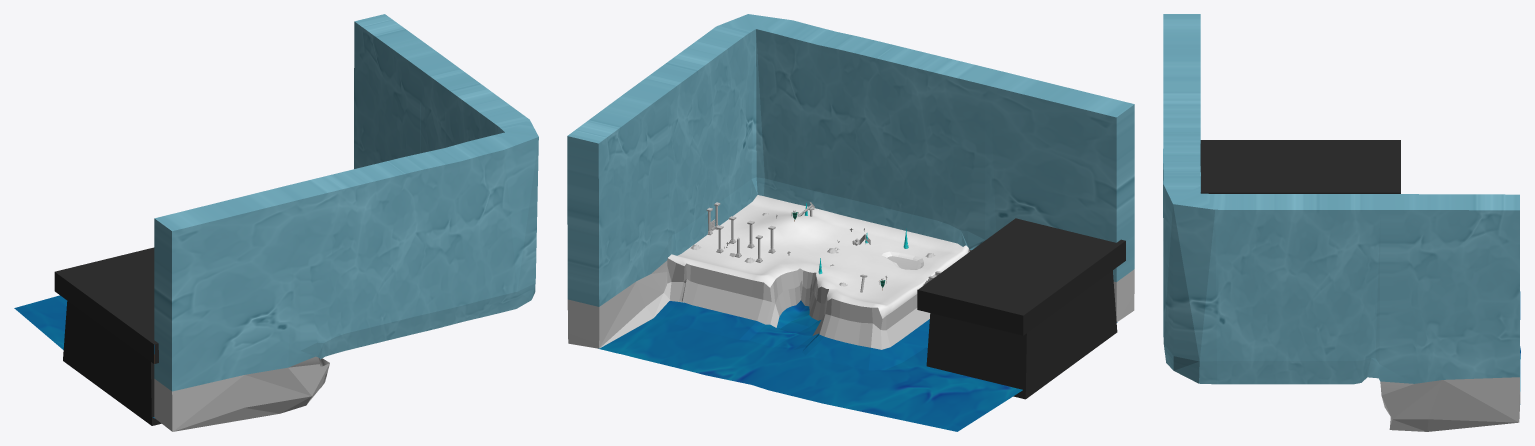
File: Extérieur plus salle.FBX
3 renders of one model, left to right at view 1: azimuth 30°, elevation 25°; view 2: azimuth 150°, elevation 25°; view 3: azimuth 270°, elevation 25°, orthographic. The views are drawn at different scales.
Parts seen in each view (by area): view 1: Mur, Object014, Object012, Sol Fond, Object013; view 2: Mur, Sol Fond, Sol neige, Parois, Object013, Object014, Object012, Object015, Object011; view 3: Mur, Object012, Object013, Object011, Object015, Object014.
Part boxes in pixels (bbox=[...]): Mur: bbox=[154, 14, 538, 431]; Object014: bbox=[54, 272, 153, 425]; Object012: bbox=[74, 259, 154, 334]; Sol Fond: bbox=[14, 295, 154, 418]; Object013: bbox=[55, 247, 154, 278]; Mur: bbox=[567, 14, 1134, 348]; Sol Fond: bbox=[598, 300, 1117, 431]; Sol neige: bbox=[668, 195, 968, 318]; Parois: bbox=[664, 249, 969, 349]; Object013: bbox=[917, 283, 1028, 399]; Object014: bbox=[1023, 241, 1125, 398]; Object012: bbox=[937, 226, 1105, 304]; Object015: bbox=[1015, 219, 1125, 247]; Object011: bbox=[918, 218, 1017, 289]; Mur: bbox=[1163, 14, 1520, 431]; Object012: bbox=[1216, 143, 1375, 188]; Object013: bbox=[1376, 140, 1400, 192]; Object011: bbox=[1201, 189, 1400, 193]; Object015: bbox=[1200, 141, 1216, 191]; Object014: bbox=[1200, 140, 1398, 143].
Size of what is drawn, in the model's own units: 8290 by 4504 by 6308.
